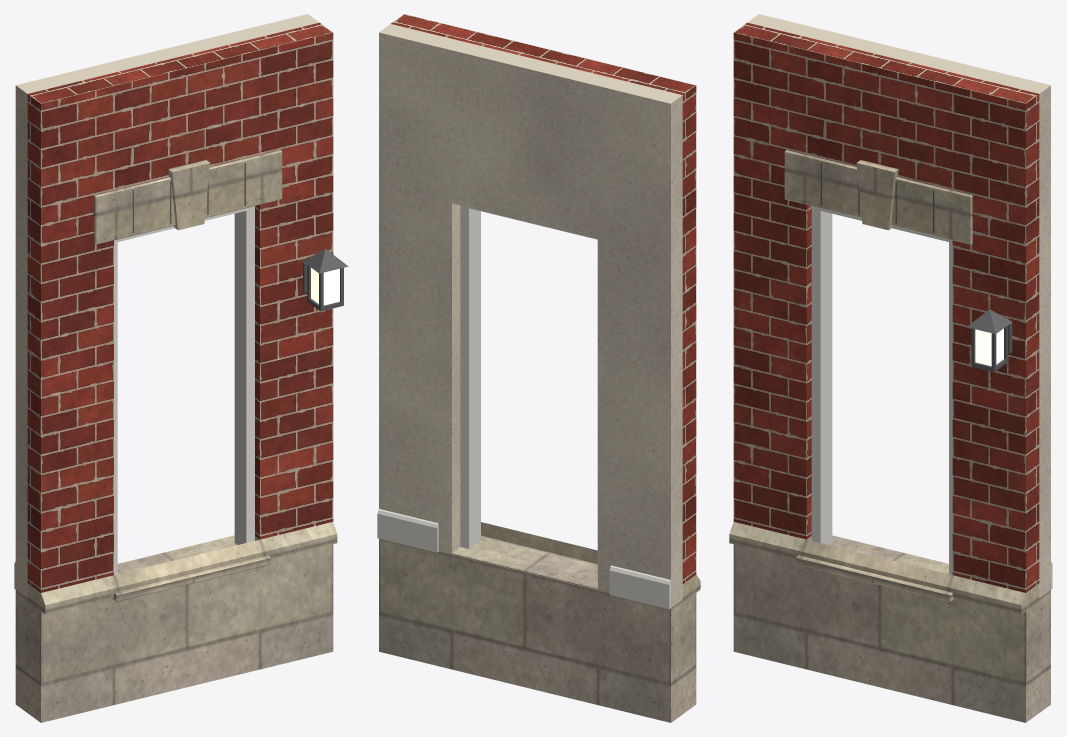
Rendered from w0_sdoor.glb.
3 views of the same model, side by side, from view 1: azimuth 30°, elevation 25°; view 2: azimuth 150°, elevation 25°; view 3: azimuth 330°, elevation 25° (orthographic).
Parts seen in each view (by area): view 1: w0_sdoor_brick, w0_sdoor_stone_t, w0_sdoor_plaster, w0_sdoor_frame, w0_sdoor_iron, w0_sdoor_lamp_glass; view 2: w0_sdoor_plaster, w0_sdoor_stone_t, w0_sdoor_brick, w0_sdoor_frame, w0_sdoor_trim; view 3: w0_sdoor_brick, w0_sdoor_stone_t, w0_sdoor_plaster, w0_sdoor_frame, w0_sdoor_iron, w0_sdoor_lamp_glass.
Part boxes in pixels (bbox=[...]): w0_sdoor_brick: bbox=[27, 22, 333, 592]; w0_sdoor_stone_t: bbox=[15, 150, 337, 722]; w0_sdoor_plaster: bbox=[15, 14, 319, 598]; w0_sdoor_frame: bbox=[114, 206, 254, 574]; w0_sdoor_iron: bbox=[303, 248, 348, 311]; w0_sdoor_lamp_glass: bbox=[311, 268, 339, 305]; w0_sdoor_plaster: bbox=[379, 24, 682, 607]; w0_sdoor_stone_t: bbox=[379, 522, 700, 722]; w0_sdoor_brick: bbox=[391, 14, 696, 583]; w0_sdoor_frame: bbox=[460, 205, 597, 579]; w0_sdoor_trim: bbox=[377, 509, 670, 609]; w0_sdoor_brick: bbox=[733, 22, 1039, 592]; w0_sdoor_stone_t: bbox=[729, 150, 1050, 722]; w0_sdoor_plaster: bbox=[747, 14, 1050, 597]; w0_sdoor_frame: bbox=[811, 206, 952, 574]; w0_sdoor_iron: bbox=[967, 309, 1012, 371]; w0_sdoor_lamp_glass: bbox=[975, 328, 1003, 366].
Bounding box in the file's own units: 2 × 4.05 × 0.588.
Materials: 8 (3 with a texture image).
